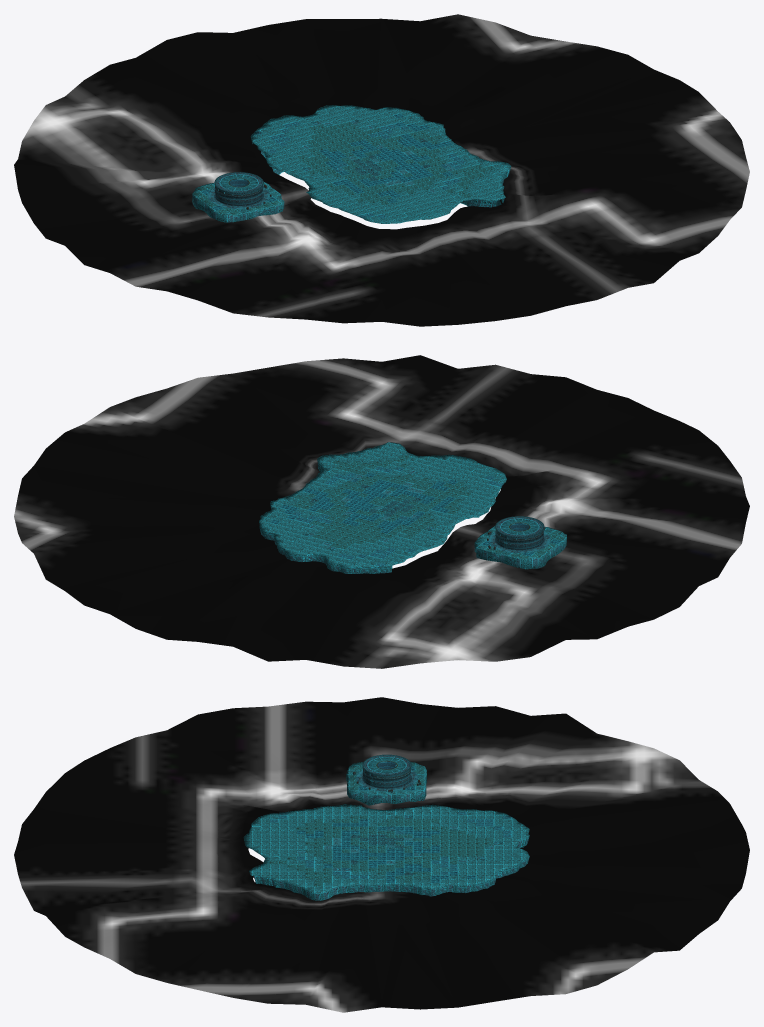
Rendered from farm_01.fbx.
3 renders of one model, top to bottom at view 1: azimuth 30°, elevation 25°; view 2: azimuth 150°, elevation 25°; view 3: azimuth 270°, elevation 25°, orthographic.
Visible parts, largest first — view 1: Sea, Island, IlandColosseum, FarmColosseum_O, FarmColosseum_C; view 2: Sea, Island, IlandColosseum, FarmColosseum_O, FarmColosseum_C; view 3: Sea, Island, IlandColosseum, FarmColosseum_O, FarmColosseum_C.
Boxes of the visible parts, x1=… form: Sea: x1=14, y1=14, x2=749, y2=326; Island: x1=251, y1=105, x2=511, y2=223; IlandColosseum: x1=192, y1=182, x2=284, y2=222; FarmColosseum_O: x1=208, y1=172, x2=271, y2=210; FarmColosseum_C: x1=216, y1=173, x2=261, y2=192; Sea: x1=14, y1=355, x2=749, y2=668; Island: x1=259, y1=442, x2=506, y2=573; IlandColosseum: x1=474, y1=526, x2=566, y2=569; FarmColosseum_O: x1=487, y1=516, x2=550, y2=552; FarmColosseum_C: x1=497, y1=517, x2=542, y2=536; Sea: x1=14, y1=697, x2=749, y2=1012; Island: x1=243, y1=804, x2=529, y2=900; IlandColosseum: x1=346, y1=761, x2=426, y2=805; FarmColosseum_O: x1=353, y1=754, x2=421, y2=792; FarmColosseum_C: x1=364, y1=755, x2=409, y2=774.
Bounding box in the file's own units: 162 × 15.38 × 163.
